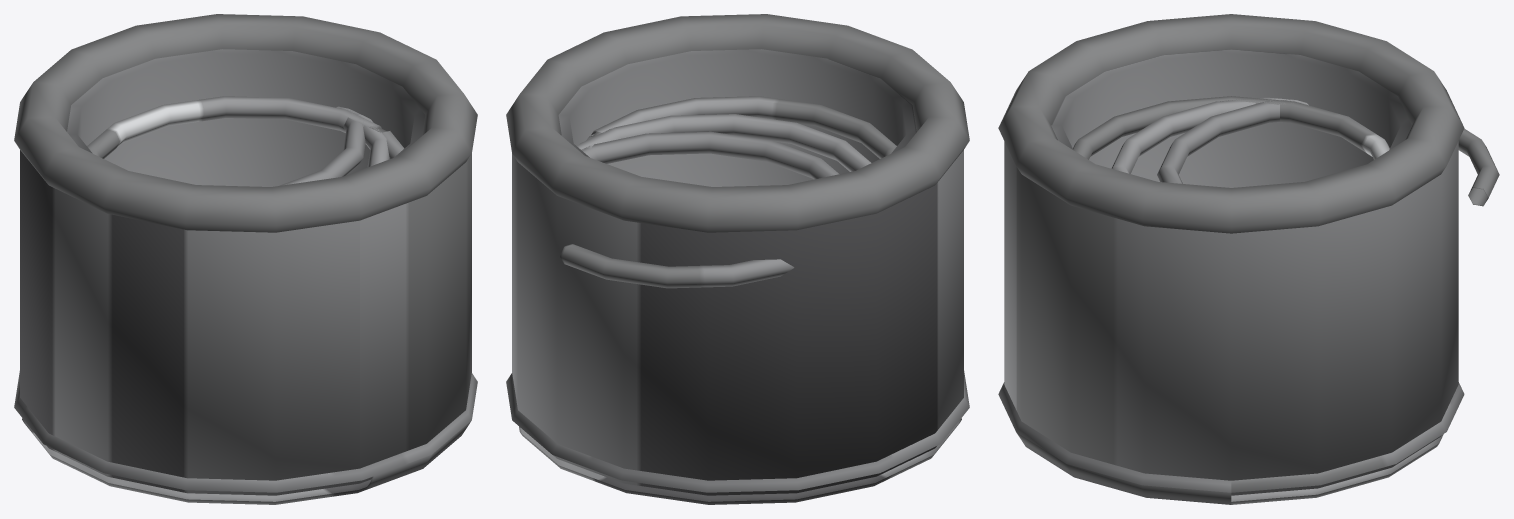
3 renders of one model, left to right at view 1: azimuth 30°, elevation 25°; view 2: azimuth 150°, elevation 25°; view 3: azimuth 270°, elevation 25°, orthographic.
Size of the model in its own units: 0.77 by 0.5543 by 0.828.
